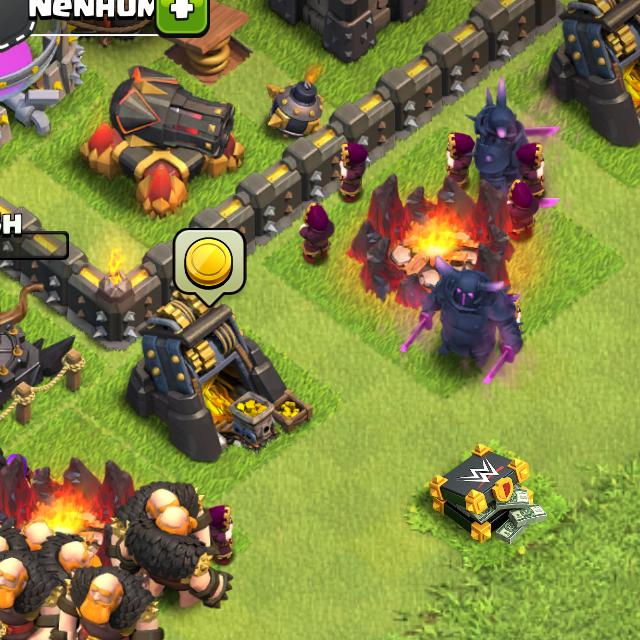coin: (174, 230, 246, 304)
